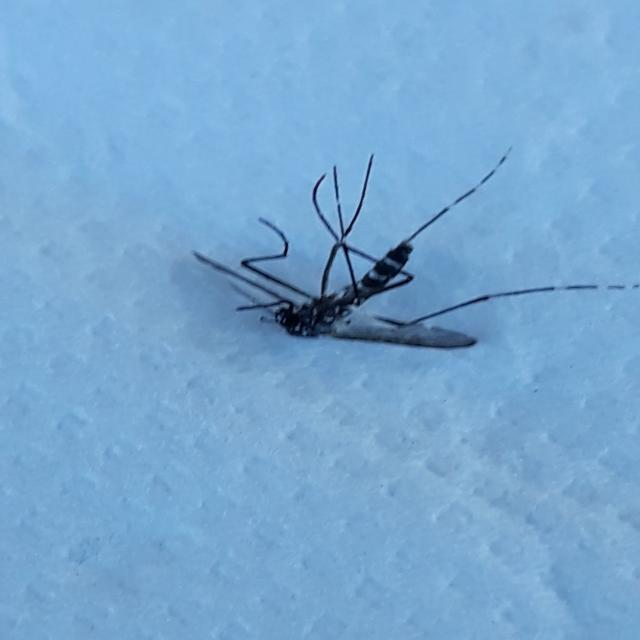albopictus: (166, 122, 600, 373)
